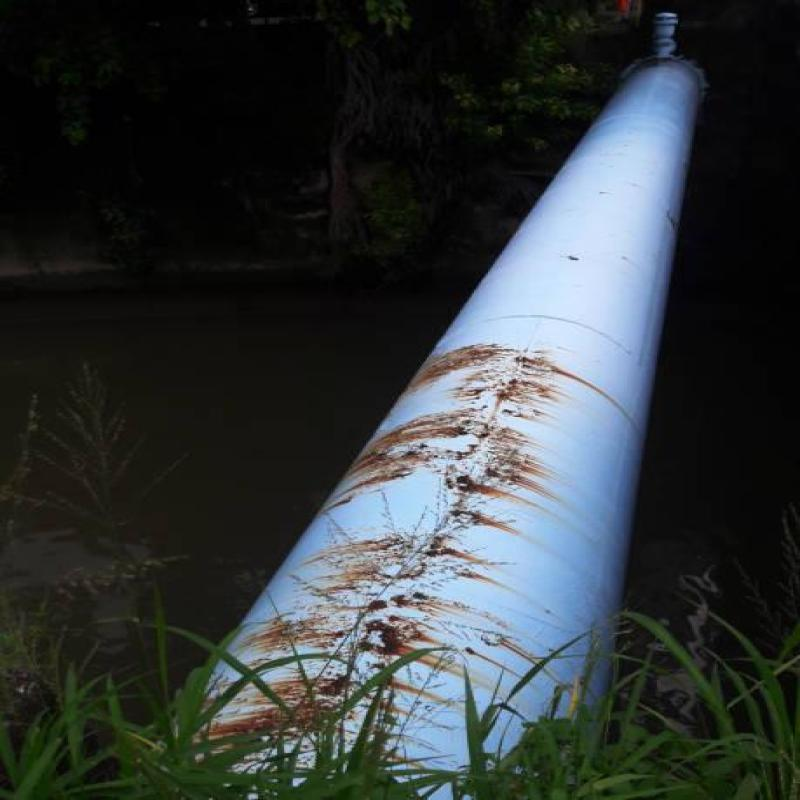corrosion: (250, 340, 568, 758)
